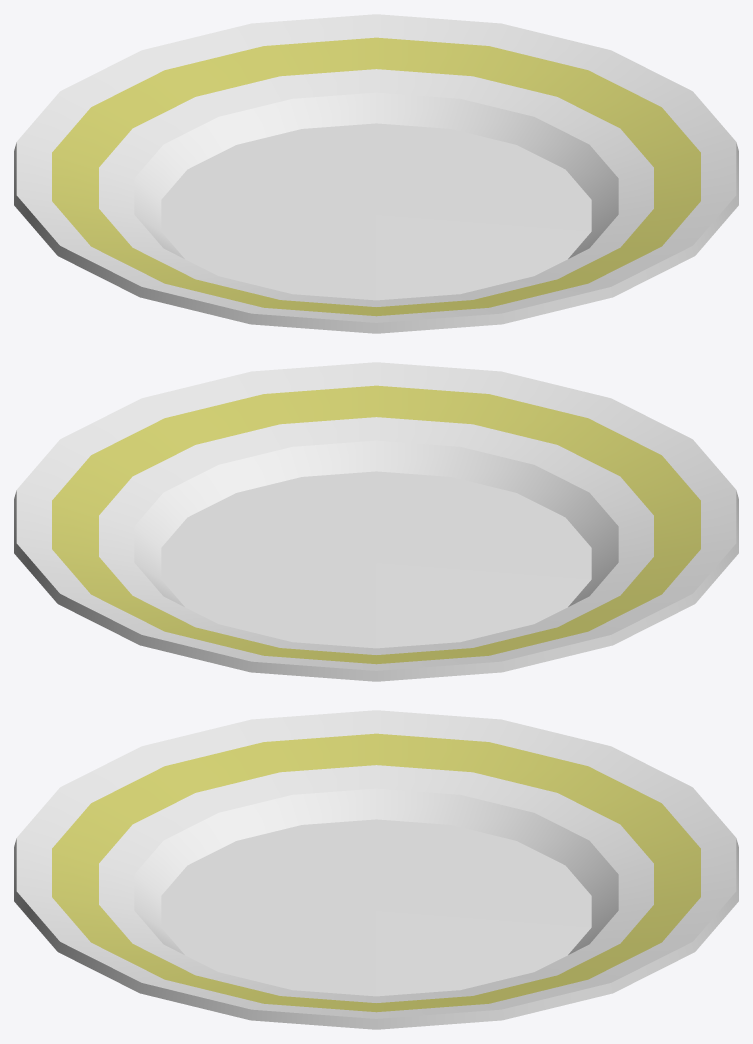
Rendered from ThrowProp_Plate_01.FBX.
3 views of the same model, one above another, from view 1: azimuth 30°, elevation 25°; view 2: azimuth 150°, elevation 25°; view 3: azimuth 270°, elevation 25° (orthographic).
Parts seen in each view (by area): view 1: Tallore; view 2: Tallore; view 3: Tallore.
Part boxes in pixels (x1,y1,x2,y2): Tallore: [14, 14, 738, 333]; Tallore: [14, 362, 738, 681]; Tallore: [14, 710, 738, 1029].
Bounding box in the file's own units: 14.57 × 1.23 × 14.35.
1 material, 1 textured.
